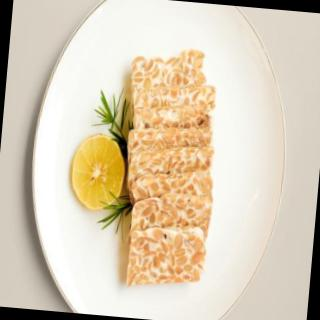Tempe: (109, 42, 230, 297)
